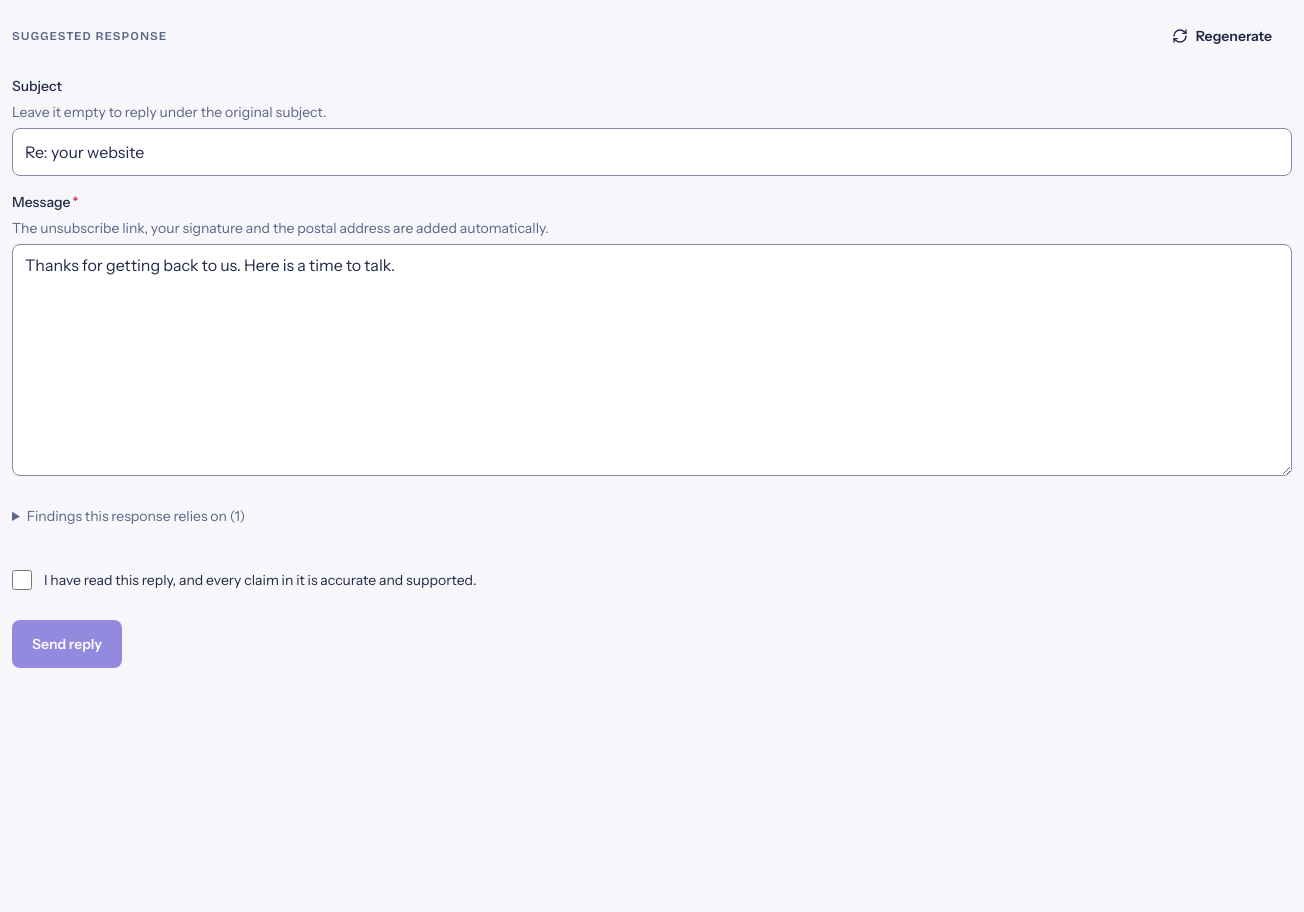
Test case: ReplyComposer › asks for confirmation again once the text is edited
Click the checkbox labelled "every claim in it is accurate": (22, 580) [12, 570, 32, 590]
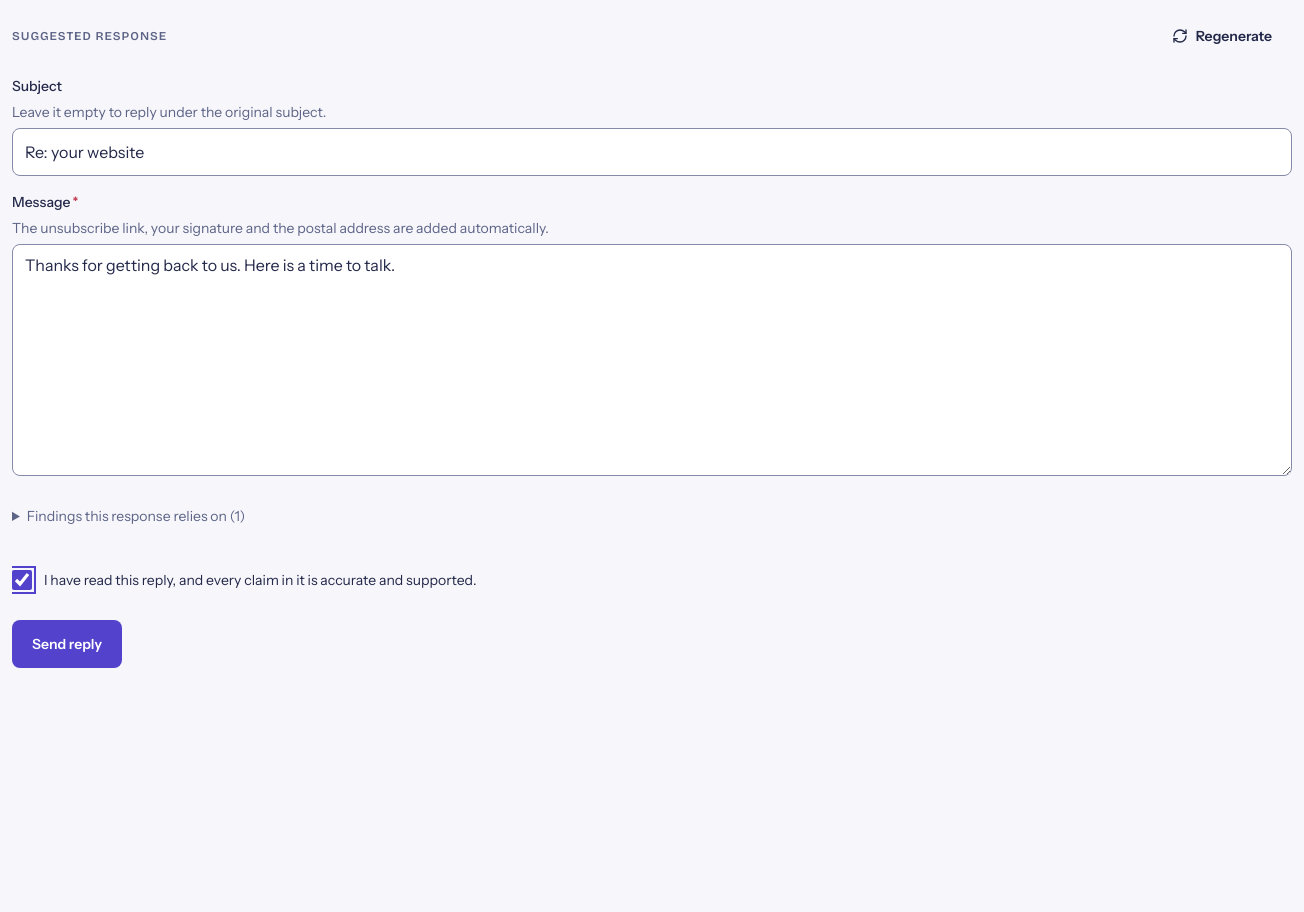
Now the checkbox labelled "every claim in it is accurate" is checked, box [12, 570, 32, 590]
In the text box labelled "Message*": (652, 360) [12, 244, 1292, 476], type " One more thing."
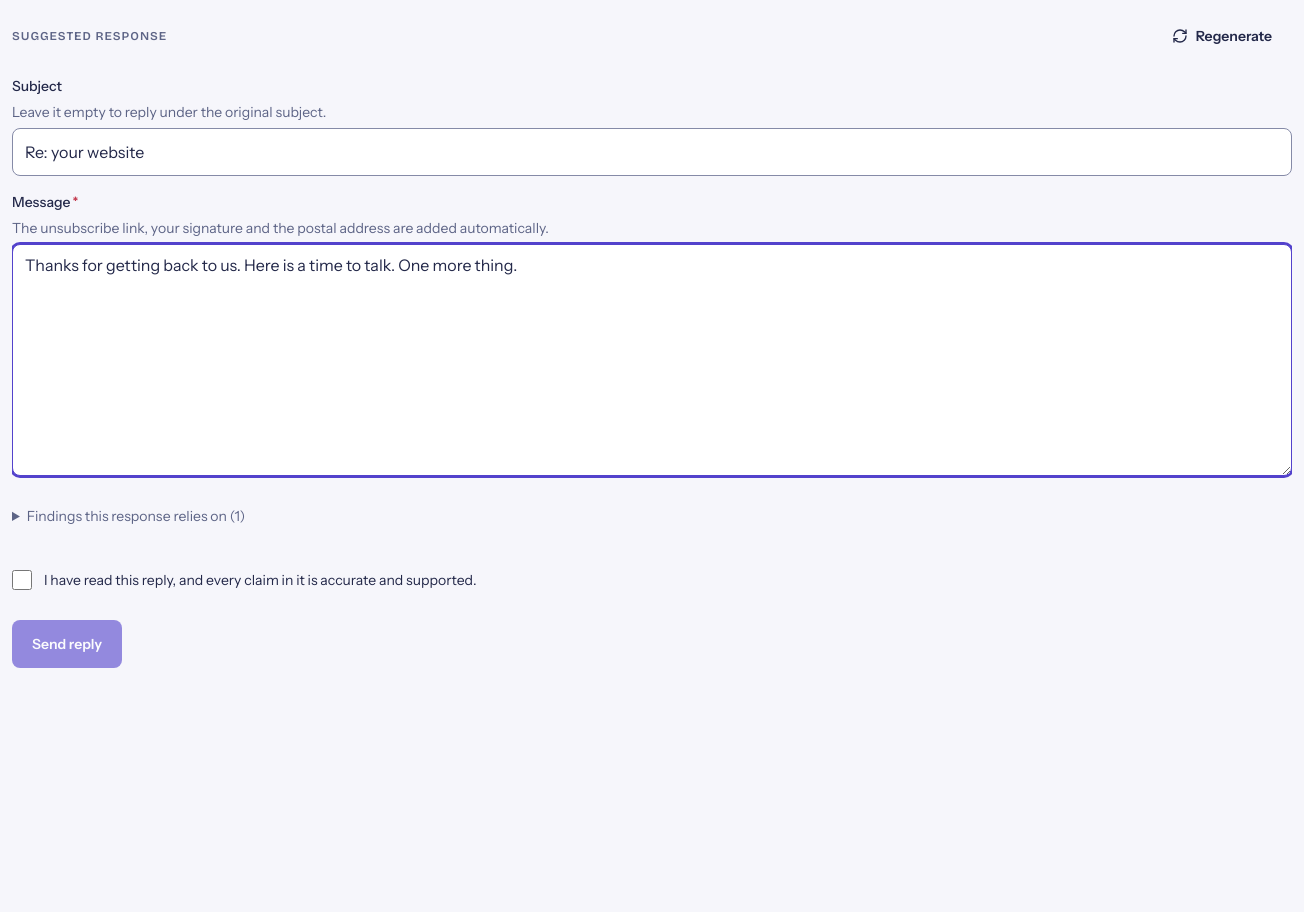
Now the checkbox labelled "every claim in it is accurate" is not checked, box [12, 570, 32, 590]
Now the button "Send reply" is disabled, box [12, 620, 122, 668]
